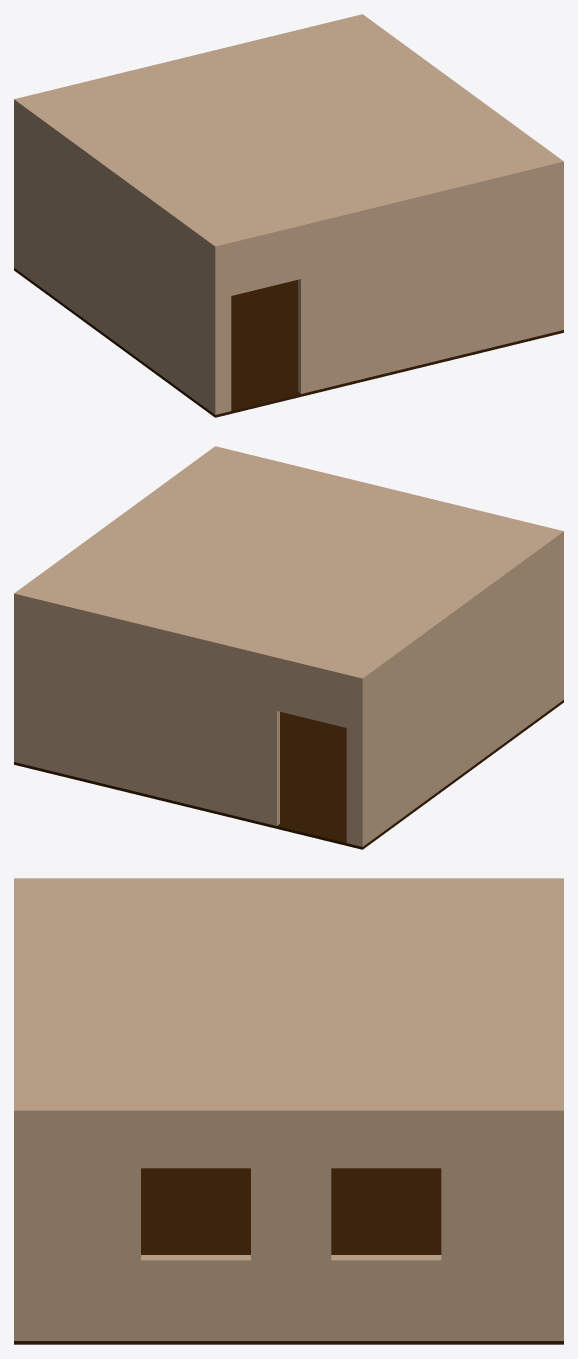
Rendered from Room01.gltf.
3 renders of one model, top to bottom at view 1: azimuth 30°, elevation 25°; view 2: azimuth 150°, elevation 25°; view 3: azimuth 270°, elevation 25°, orthographic. The views are drawn at different scales.
Parts seen in each view (by area): view 1: roof, wall2, wall, floor, wall3, Wall4-front; view 2: roof, wall3, wall, floor, wall2, Wall4-front; view 3: roof, Wall4-front, floor, wall2, wall3, wall.
Boxes of the visible parts, x1,y1,x2,y2 form: roof: [16, 15, 563, 248]; wall2: [212, 159, 563, 414]; wall: [17, 100, 215, 412]; floor: [14, 268, 563, 417]; wall3: [14, 14, 365, 269]; Wall4-front: [358, 16, 560, 160]; roof: [17, 446, 563, 678]; wall3: [14, 591, 365, 846]; wall: [361, 532, 560, 844]; floor: [14, 700, 563, 849]; wall2: [212, 446, 563, 701]; Wall4-front: [17, 448, 219, 592]; roof: [14, 878, 559, 1114]; Wall4-front: [22, 1105, 555, 1340]; floor: [14, 1168, 563, 1344]; wall2: [14, 878, 22, 1340]; wall3: [555, 878, 563, 1340]; wall: [22, 878, 555, 881].
Bounding box in the file's own units: 130 × 61 × 130.
